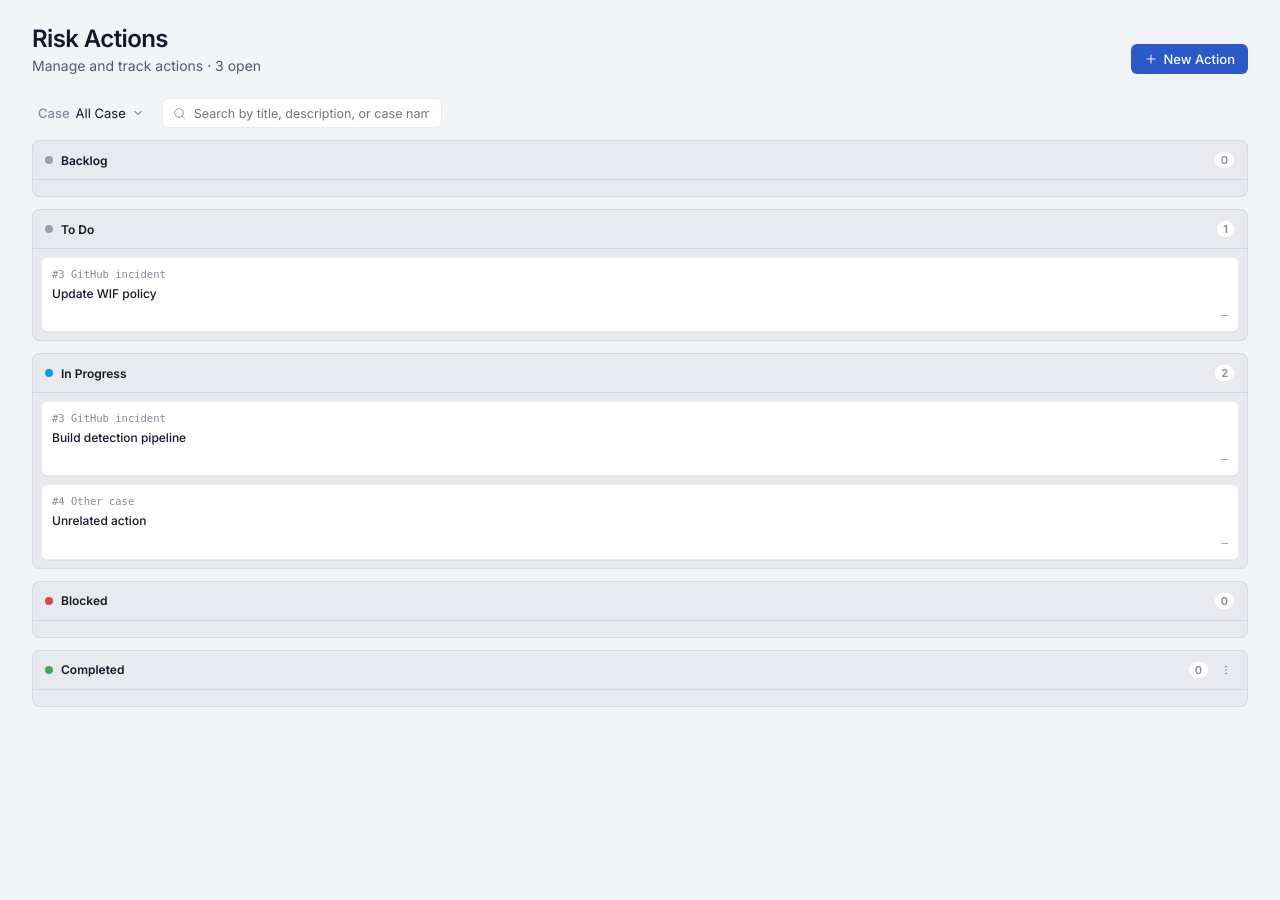
Test: ActionList case filter › filters the dropdown items by the in-popup search input
Expected: the number of buttons with test id "action-card" is 3, [41, 257, 1239, 332]; [41, 401, 1239, 476]; [41, 484, 1239, 560]
Click the button with test id "action-case-filter-trigger" at (91, 113), box [32, 101, 150, 125]
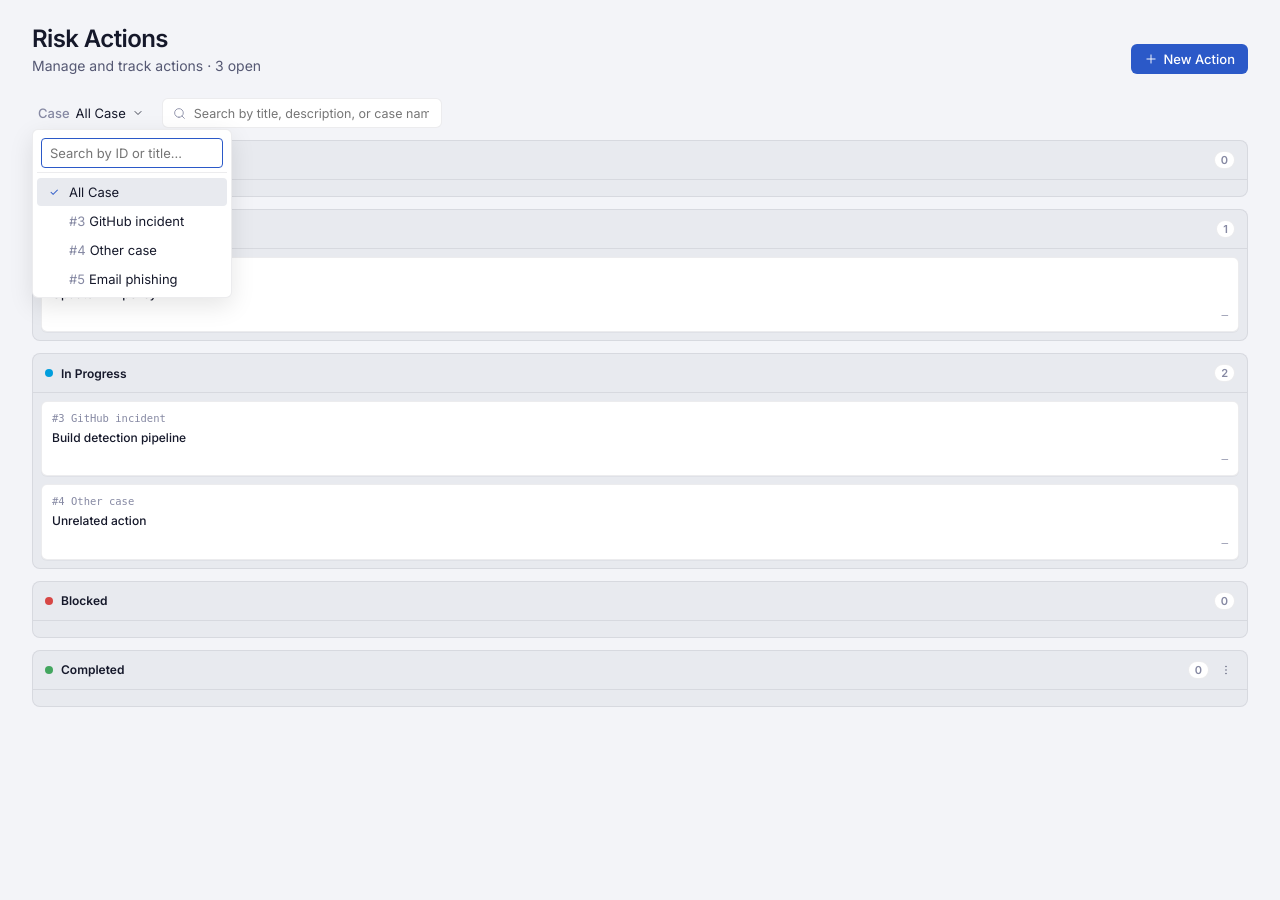
Type "email" into the field with test id "action-case-filter-search" at (132, 153), box [41, 138, 223, 168]
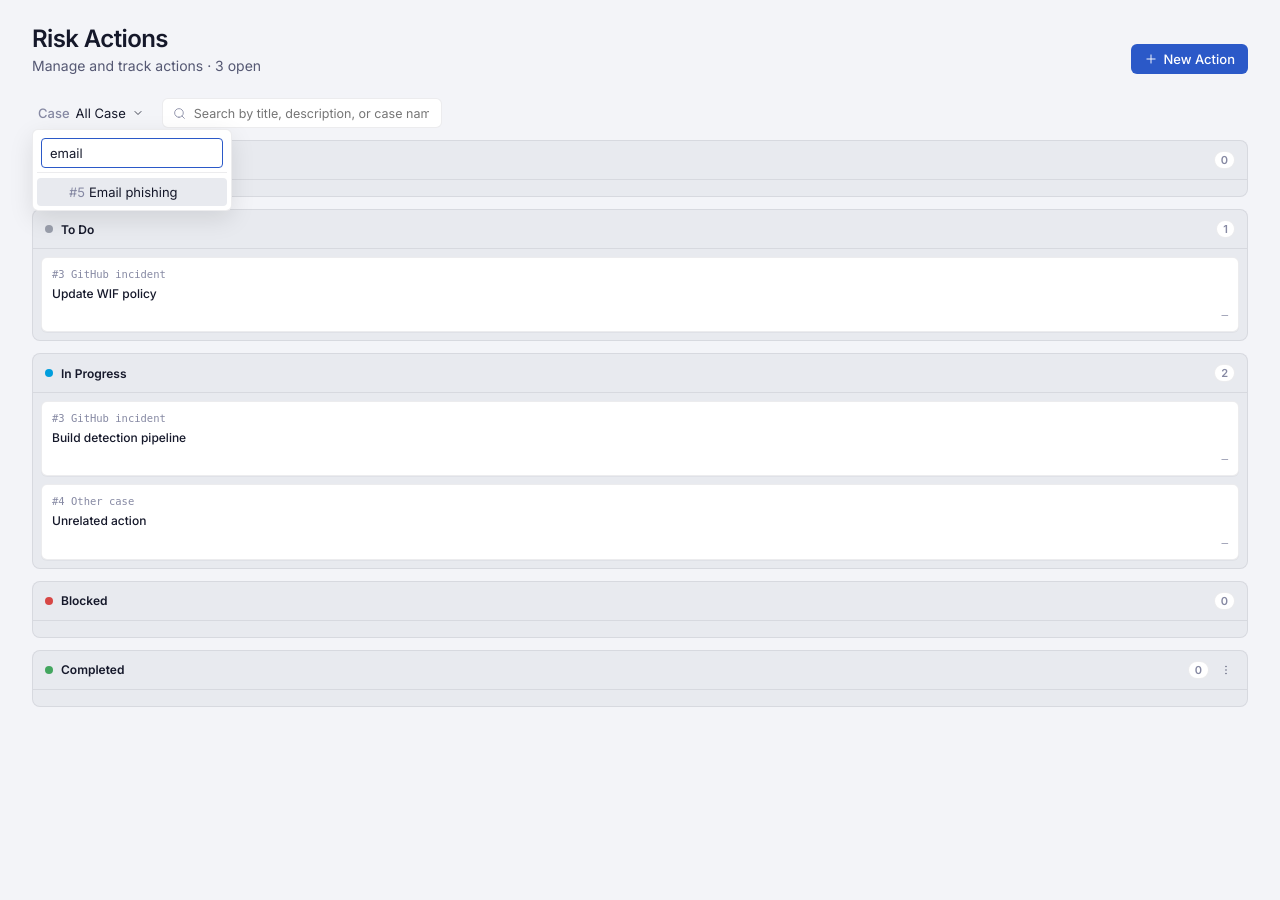
Expected: the option with test id "action-case-filter-item-5" is shown, [37, 178, 227, 206]
Expected: the option with test id "action-case-filter-item-3" is gone
Expected: the option with test id "action-case-filter-item-4" is gone
